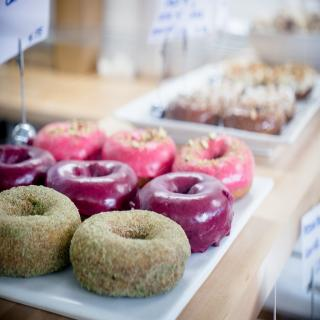Doughnut: (0, 117, 257, 300)
